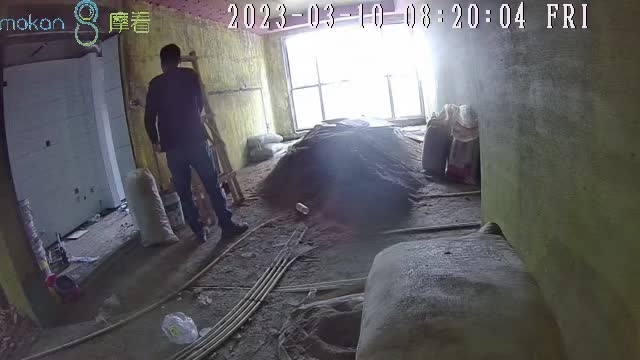people: (144, 44, 249, 238)
window: (282, 25, 435, 128)
